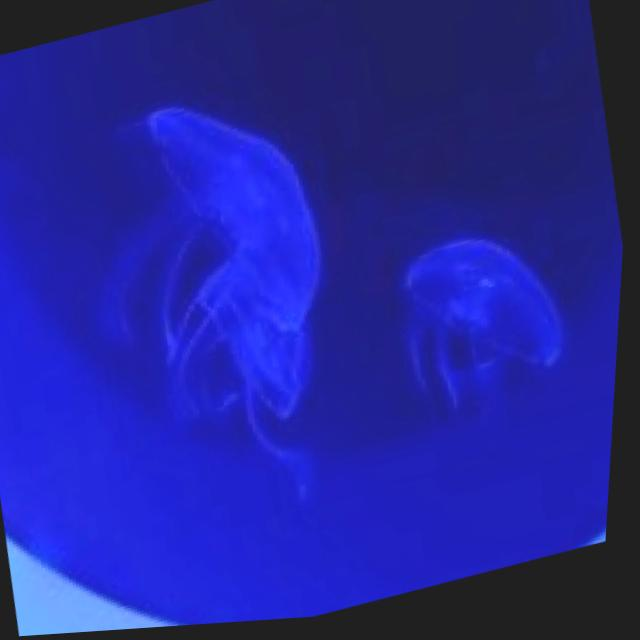Moon-jellyfish: (40, 44, 386, 396), (380, 221, 590, 444)
